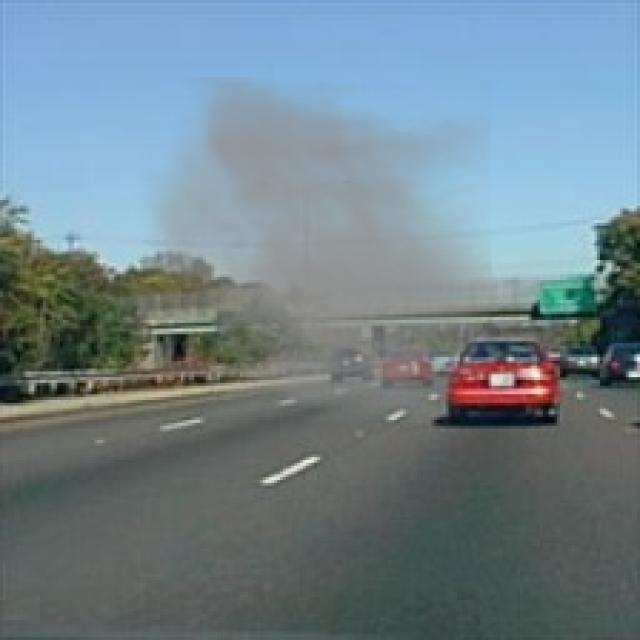Smoke: (132, 77, 492, 426)
